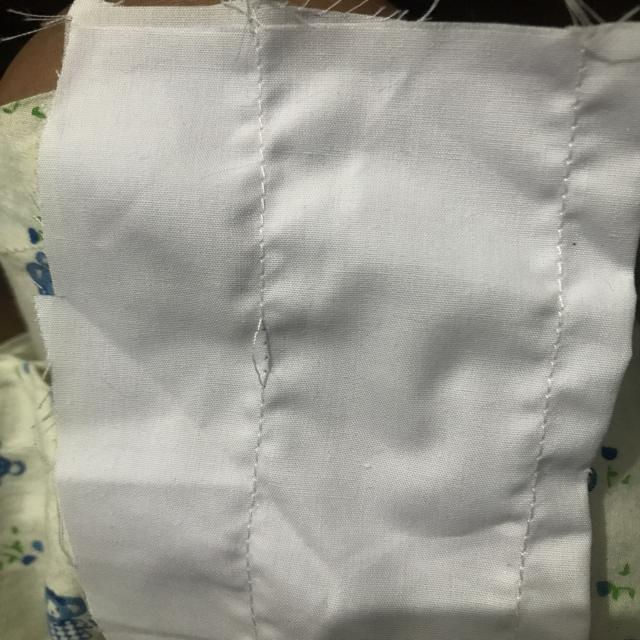good: (251, 176, 281, 268)
skip: (229, 297, 293, 401)
